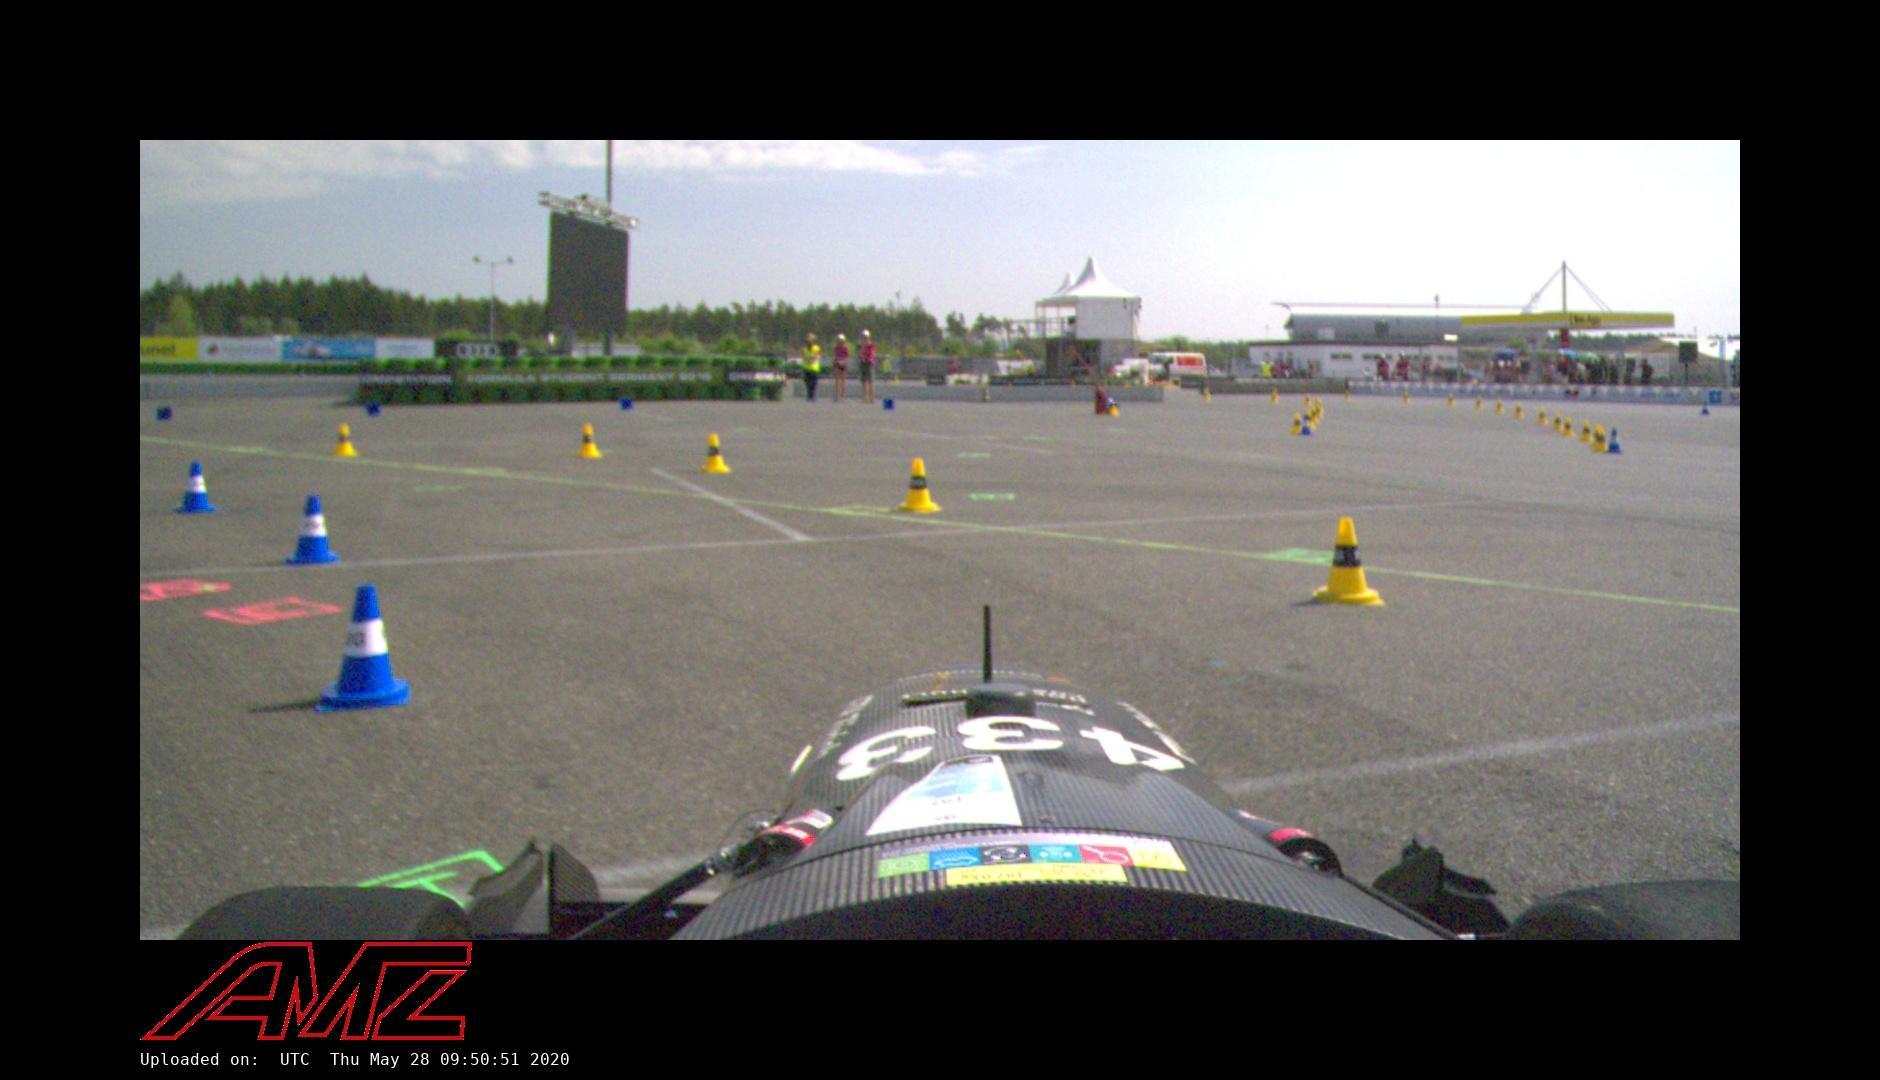blue_cone: (314, 583, 412, 713), (284, 493, 340, 566), (173, 461, 218, 514), (1605, 427, 1625, 454), (1298, 413, 1314, 435)
yellow_cone: (1311, 517, 1385, 606), (892, 458, 943, 514), (698, 432, 731, 474), (573, 423, 603, 459), (329, 423, 359, 457), (1592, 427, 1610, 453), (1289, 412, 1305, 434)
